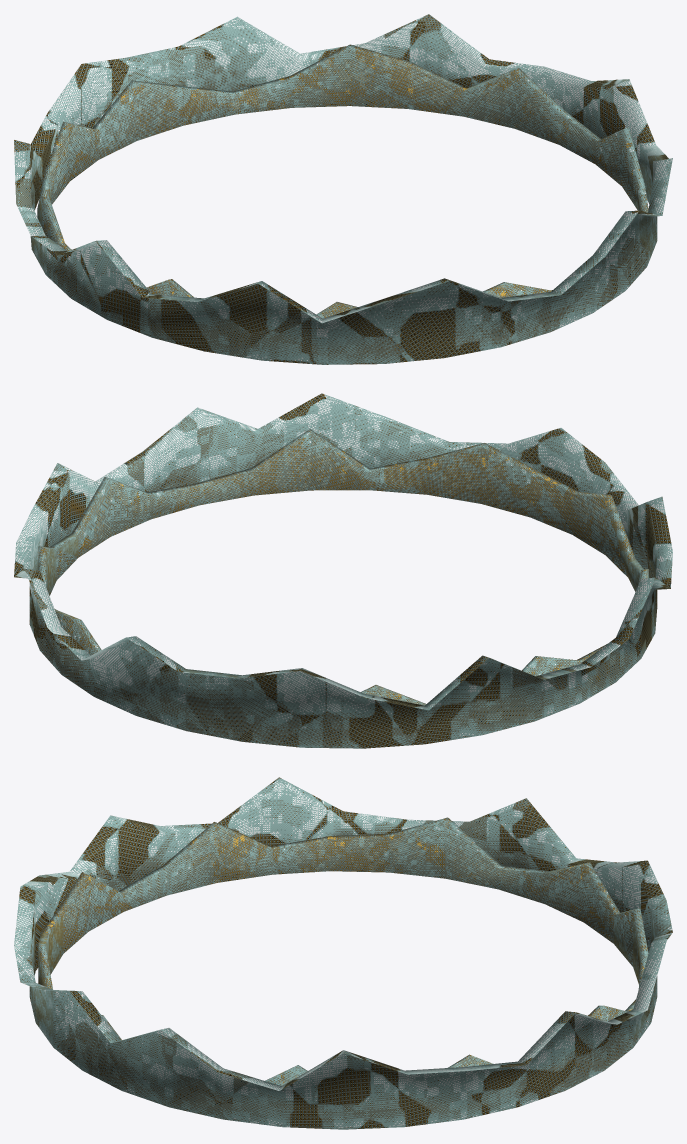
File: truck_arena_wall.fbx
3 renders of one model, top to bottom at view 1: azimuth 30°, elevation 25°; view 2: azimuth 150°, elevation 25°; view 3: azimuth 270°, elevation 25°, orthographic.
Parts seen in each view (by area): view 1: wall; view 2: wall; view 3: wall.
Boxes of the visible parts, bbox=[...] form: wall: bbox=[14, 14, 672, 364]; wall: bbox=[14, 393, 672, 748]; wall: bbox=[14, 777, 672, 1129].
Bounding box in the file's own units: 31500 × 4390 × 31500.
